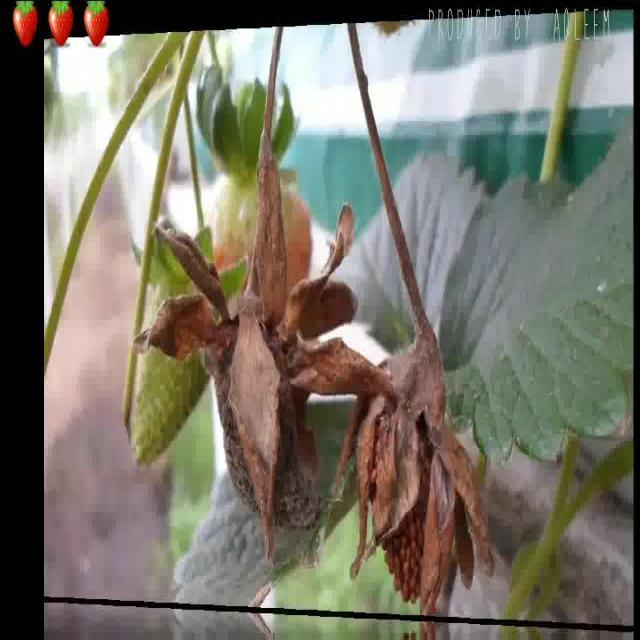Mancha negra Antracnosis: (197, 286, 337, 539), (359, 341, 488, 610)
